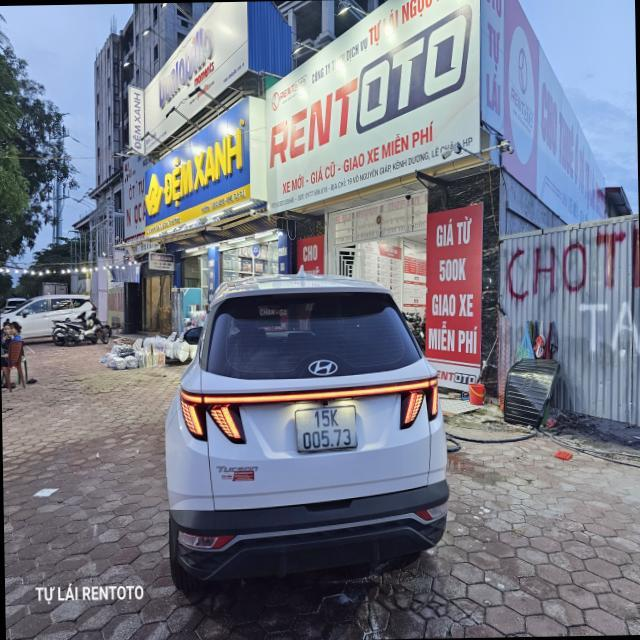car: (162, 277, 452, 596), (0, 289, 92, 347)
plate: (286, 398, 365, 454)
